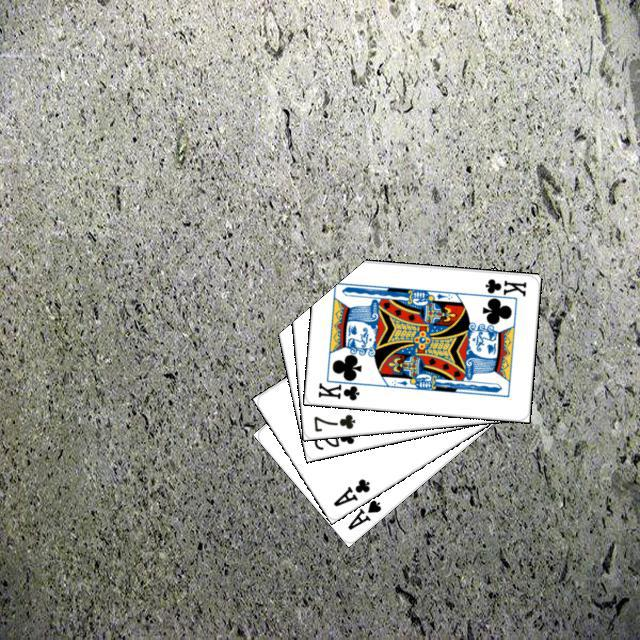2c: (309, 424, 357, 452)
7c: (309, 409, 357, 433)
Ac: (328, 473, 372, 508)
As: (342, 494, 383, 532)
Kc: (313, 374, 366, 402), (475, 274, 528, 301)
